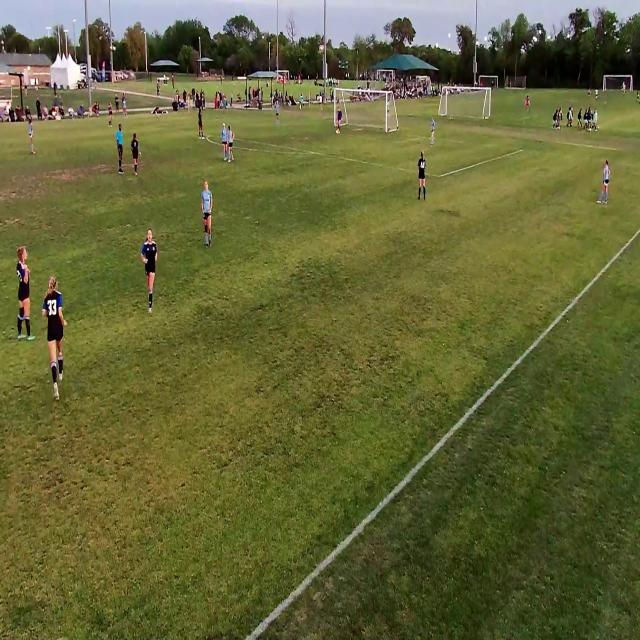ball: (335, 104, 344, 136), (335, 129, 339, 135)
team1: (44, 276, 68, 400), (16, 248, 34, 344), (144, 230, 160, 316), (416, 151, 428, 201), (131, 130, 141, 178), (197, 105, 206, 141), (108, 100, 114, 128)
team2: (200, 182, 214, 248), (597, 160, 612, 206), (226, 125, 235, 163), (28, 116, 36, 155), (430, 115, 438, 146), (221, 123, 227, 161), (275, 99, 281, 128)
